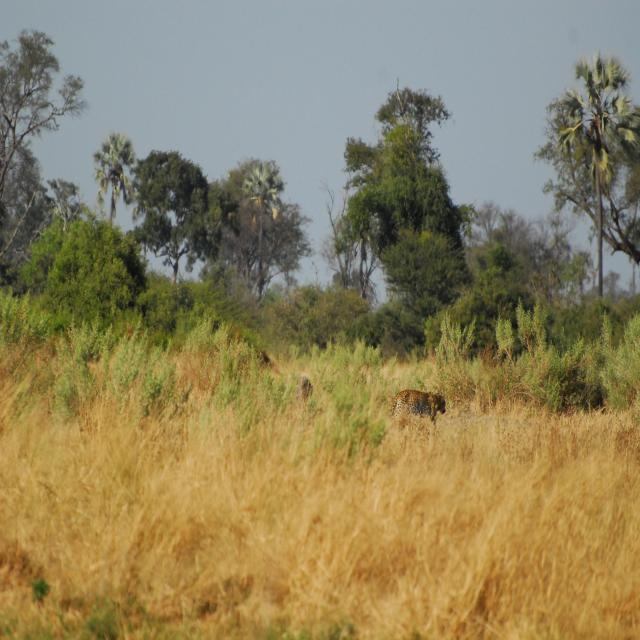Leopard: (383, 381, 457, 433)
